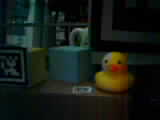duck: (93, 43, 139, 90)
